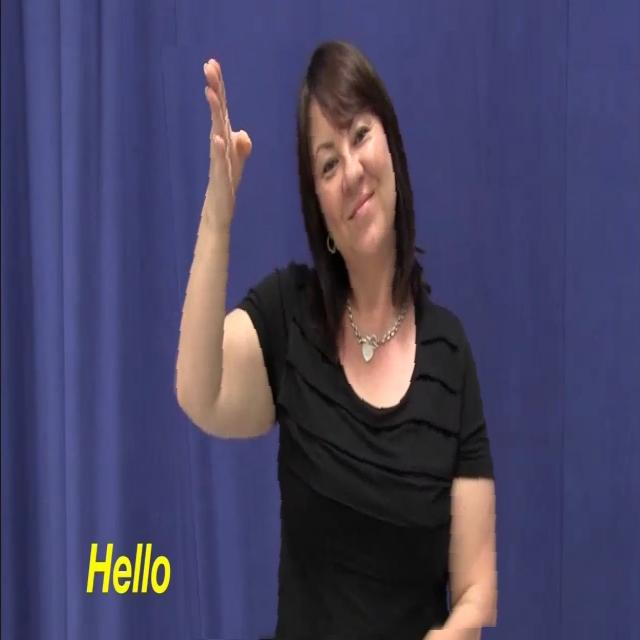Hello: (164, 34, 498, 639)
